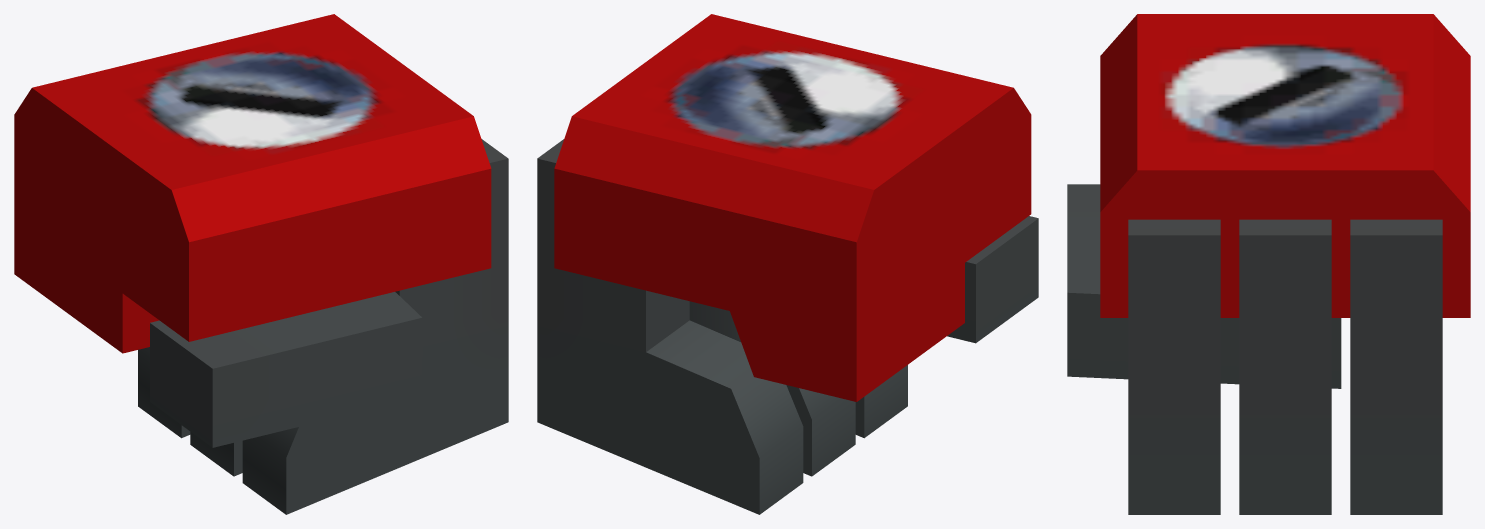
3 views of the same model, side by side, from view 1: azimuth 30°, elevation 25°; view 2: azimuth 150°, elevation 25°; view 3: azimuth 270°, elevation 25° (orthographic). The views are drawn at different scales.
Visible parts, largest first — view 1: Joint_0_Object_0, Joint_0_Object_1; view 2: Joint_0_Object_0, Joint_0_Object_1; view 3: Joint_0_Object_1, Joint_0_Object_0.
Part boxes in pixels (<box>): Joint_0_Object_0: <box>14,14,491,353</box>; Joint_0_Object_1: <box>138,139,508,514</box>; Joint_0_Object_0: <box>554,14,1031,401</box>; Joint_0_Object_1: <box>537,139,1038,514</box>; Joint_0_Object_1: <box>1067,184,1442,514</box>; Joint_0_Object_0: <box>1100,14,1470,317</box>.
Bounding box in the file's own units: 32.67 × 32.73 × 32.35.
2 materials, 2 textured.
